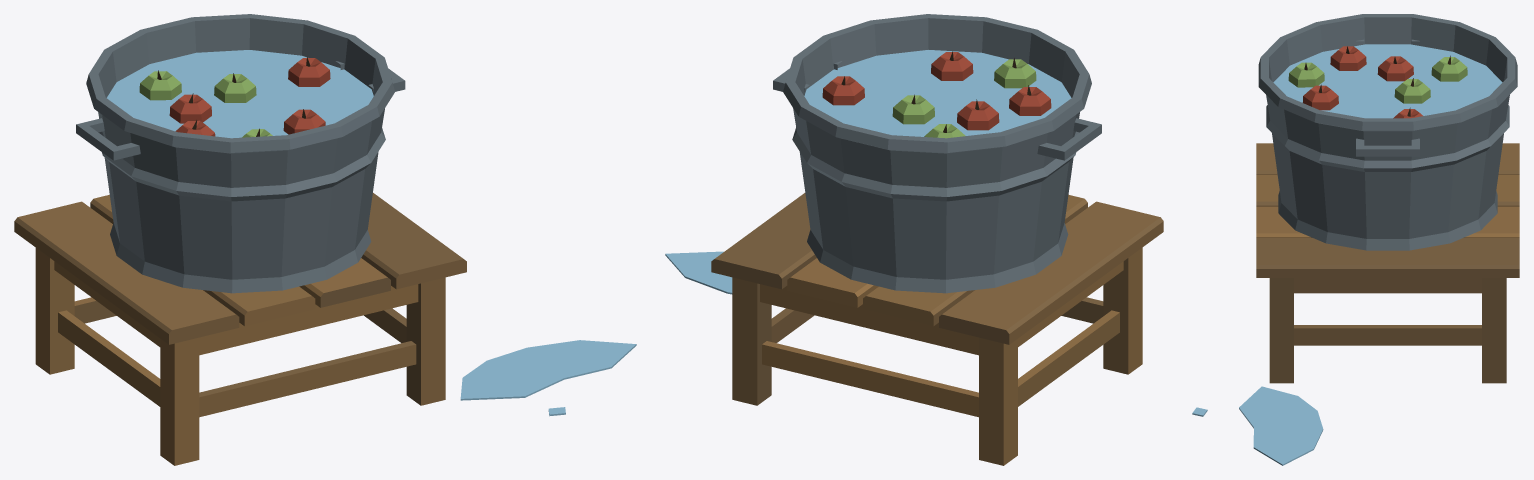
Rendered from apple-bobbing-tub-d1872e.glb.
3 views of the same model, side by side, from view 1: azimuth 30°, elevation 25°; view 2: azimuth 150°, elevation 25°; view 3: azimuth 270°, elevation 25° (orthographic). The views are drawn at different scales.
Visible parts, largest first — view 1: tub-and-stand, water, apples; view 2: tub-and-stand, water, apples; view 3: tub-and-stand, water, apples.
Part boxes in pixels (<box>): tub-and-stand: <box>14,14,466,465</box>; water: <box>107,50,636,416</box>; apples: <box>139,57,330,137</box>; tub-and-stand: <box>711,14,1163,465</box>; water: <box>665,50,1071,294</box>; apples: <box>822,51,1051,138</box>; tub-and-stand: <box>1256,14,1519,383</box>; water: <box>1192,44,1502,465</box>; apples: <box>1288,46,1467,118</box>.
Size of the model in its own units: 1.26 by 0.76 by 0.8703.
